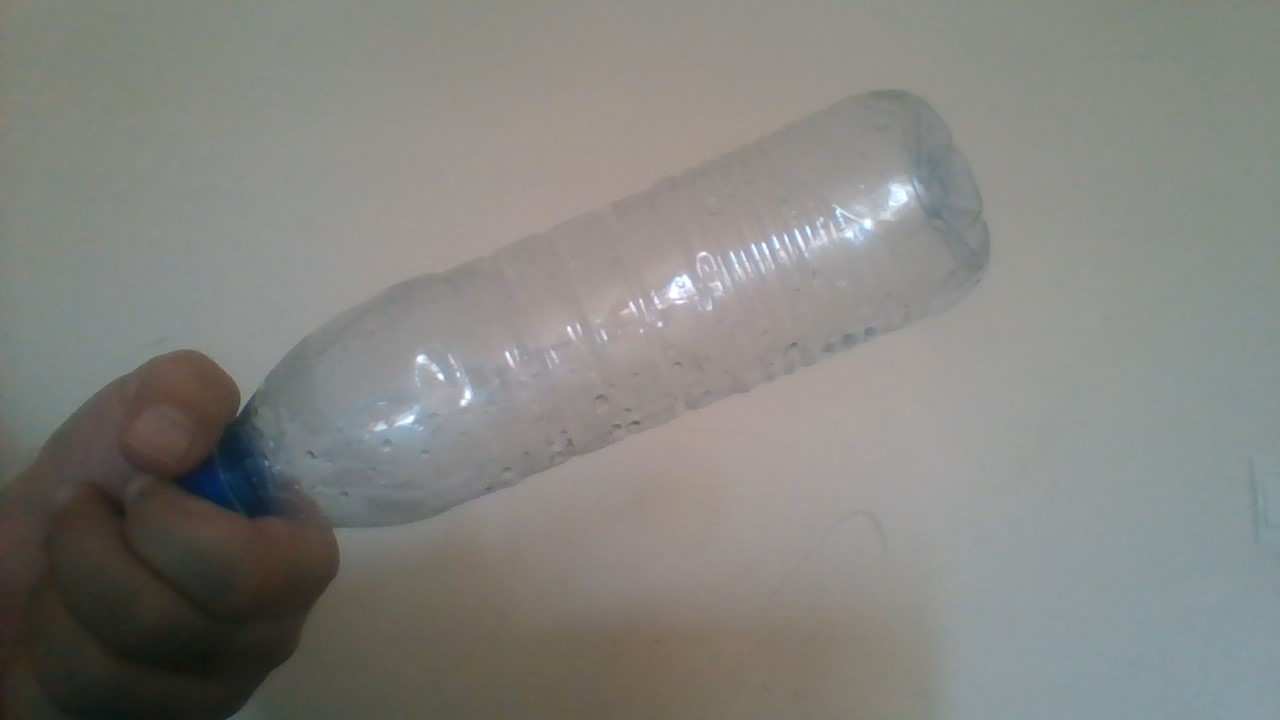plastic: (240, 81, 1003, 536)
